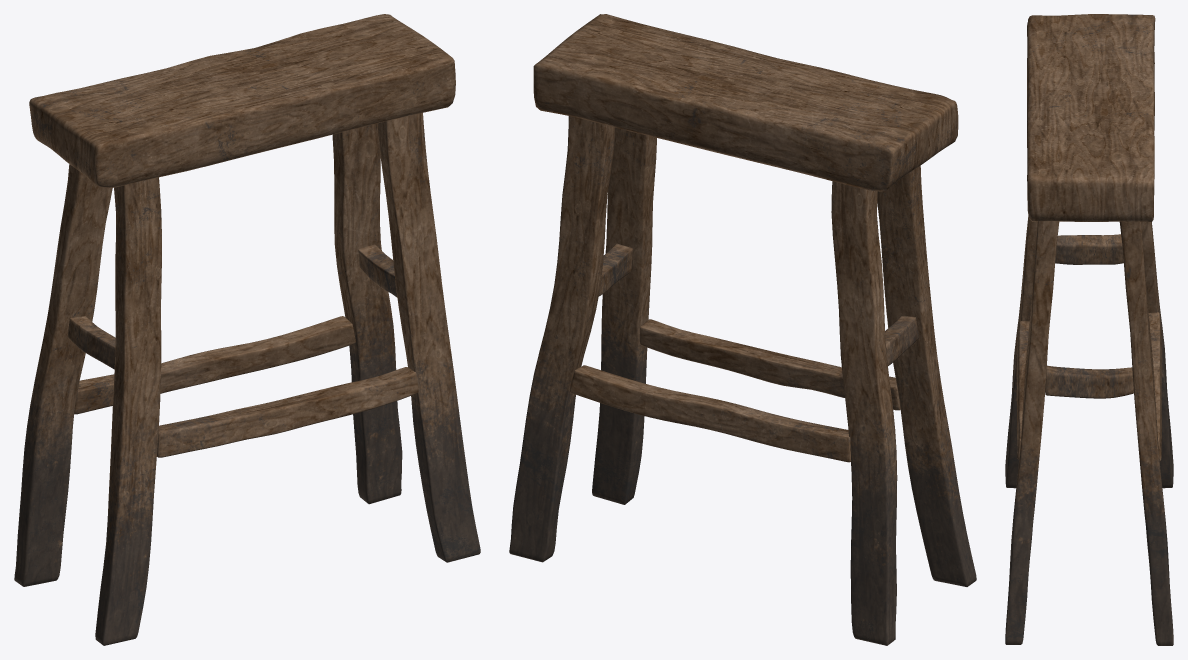
The picture shows the model from 3 angles, left to right: view 1: azimuth 30°, elevation 25°; view 2: azimuth 150°, elevation 25°; view 3: azimuth 270°, elevation 25°; orthographic projection. The views are drawn at different scales.
Parts seen in each view (by area): view 1: StoolA; view 2: StoolA; view 3: StoolA.
Part boxes in pixels (bbox=[...]): StoolA: bbox=[14, 14, 480, 645]; StoolA: bbox=[509, 14, 976, 645]; StoolA: bbox=[1005, 14, 1173, 645].
Bounding box in the file's own units: 52.1 × 64.51 × 21.26.
1 material, 1 textured.
